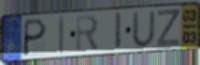I: (113, 11, 122, 52), (58, 15, 65, 56)
P: (21, 17, 48, 58)
R: (75, 13, 100, 54)
U: (131, 9, 157, 49)
Z: (156, 7, 181, 48)
